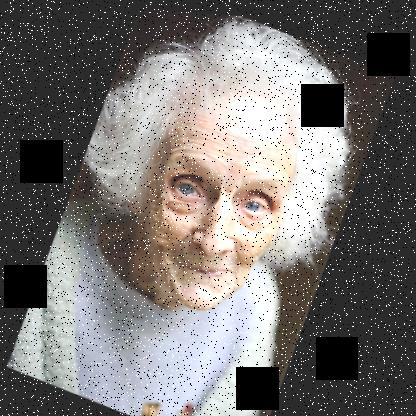Female: (109, 75, 313, 325)
